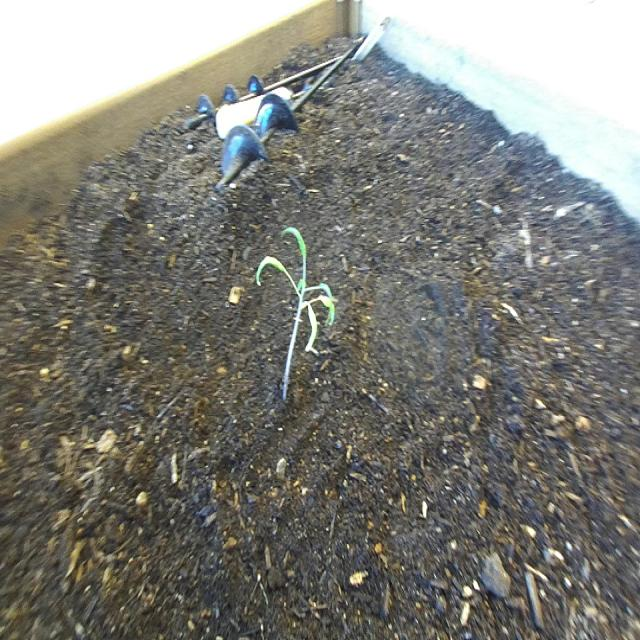Healthy: (253, 224, 338, 406)
